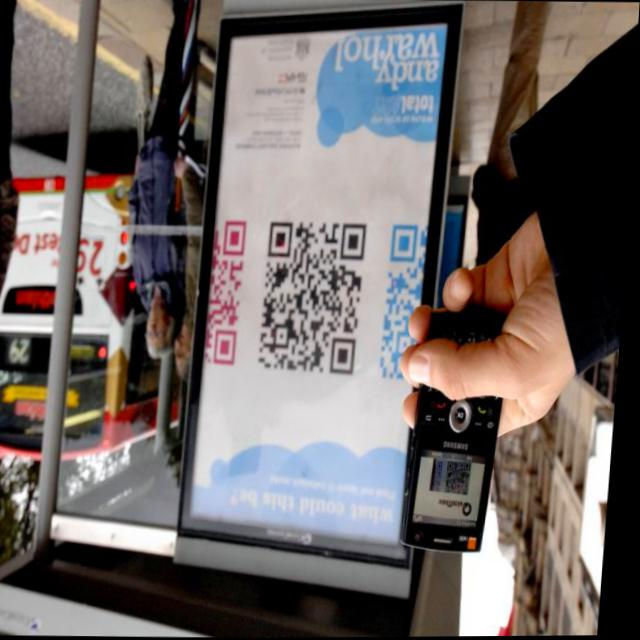qrcode: (261, 222, 370, 376), (382, 225, 430, 380), (209, 220, 250, 366), (450, 463, 476, 495), (439, 463, 448, 492)
